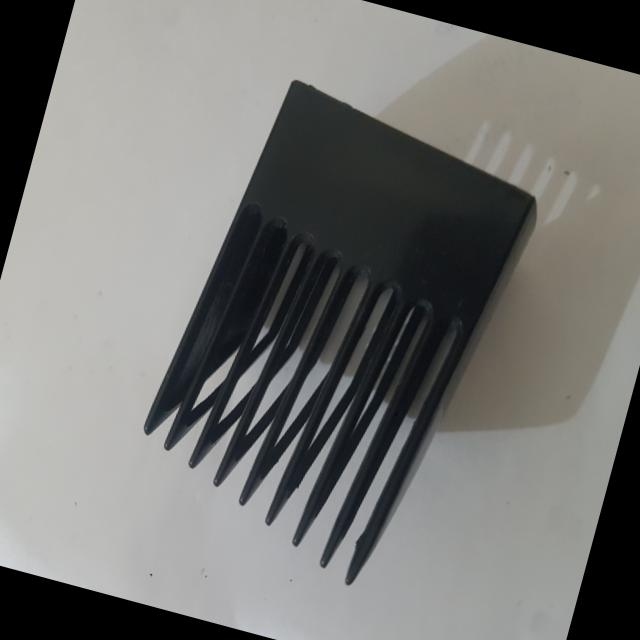general: (116, 61, 557, 608)
